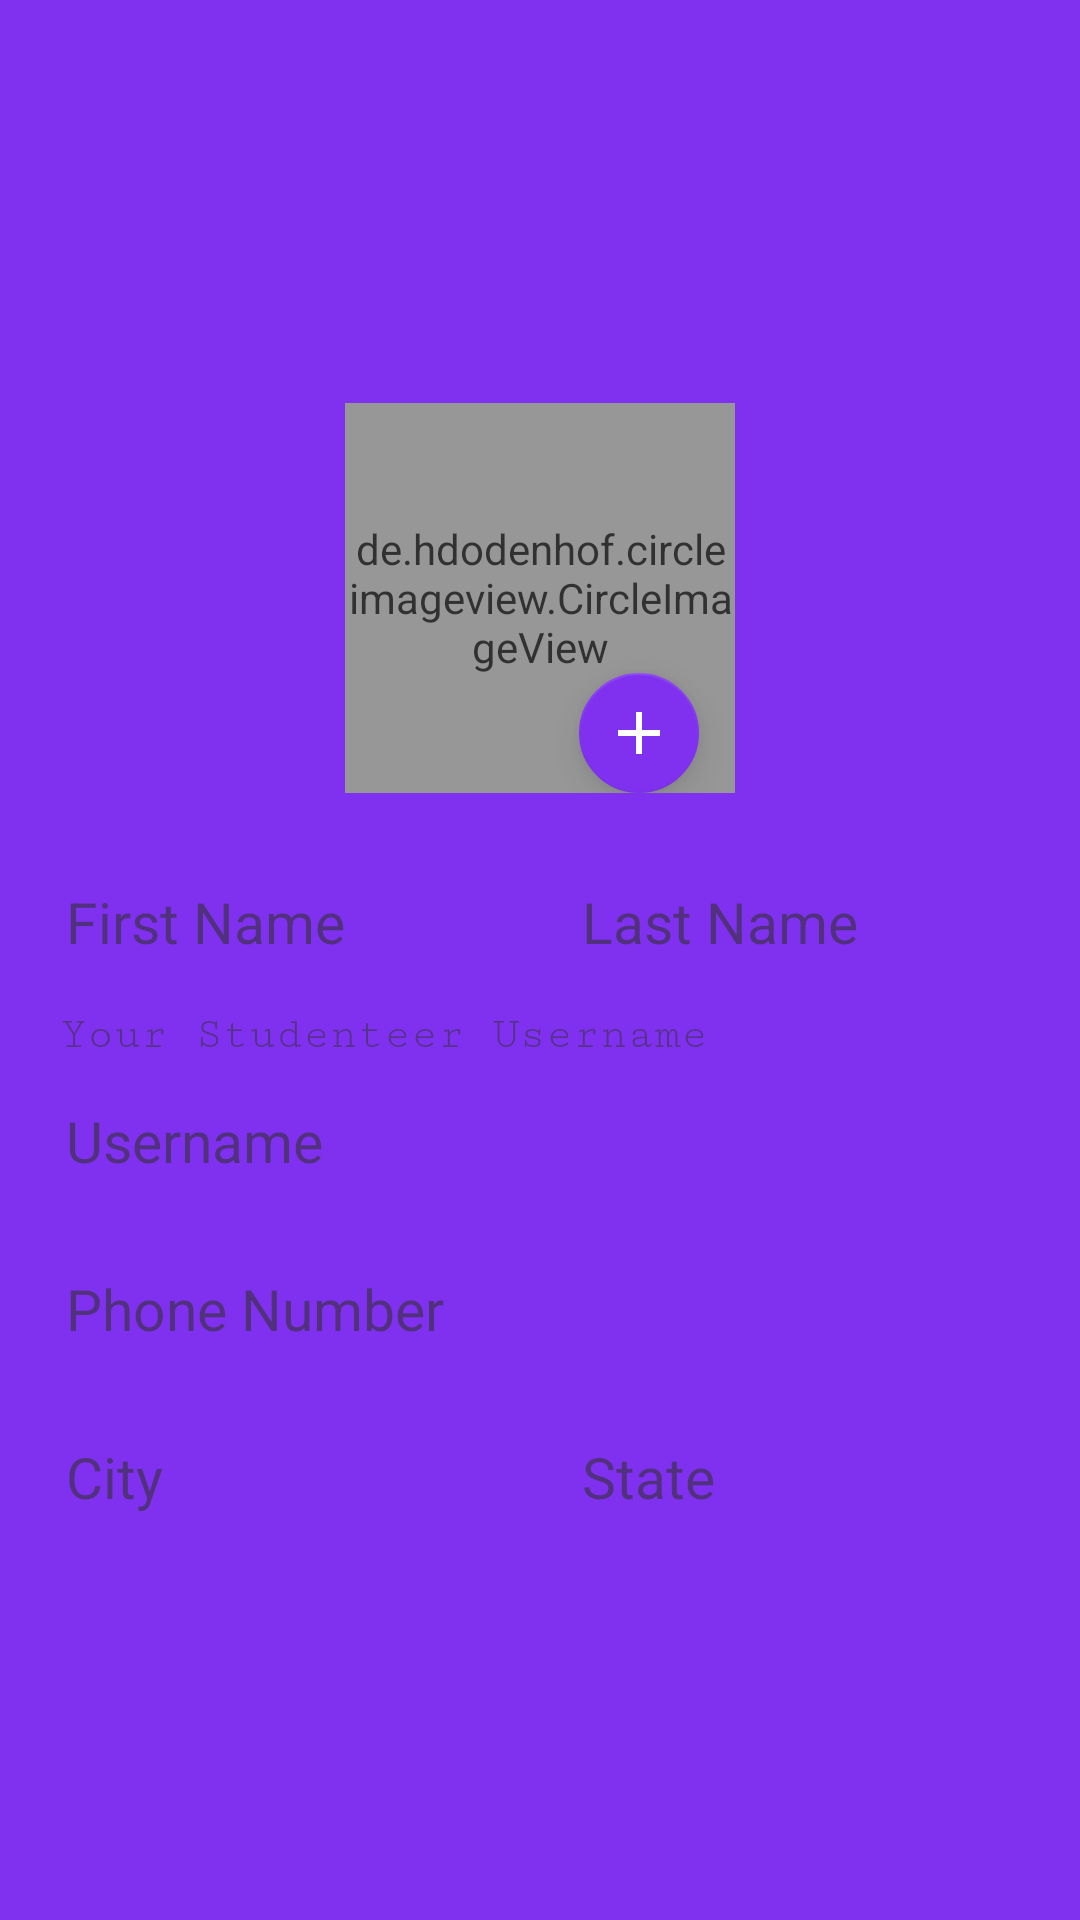

Named icons in this screenshot (1080 × 1920) and their centers, (x,y):
add: (639,733)
